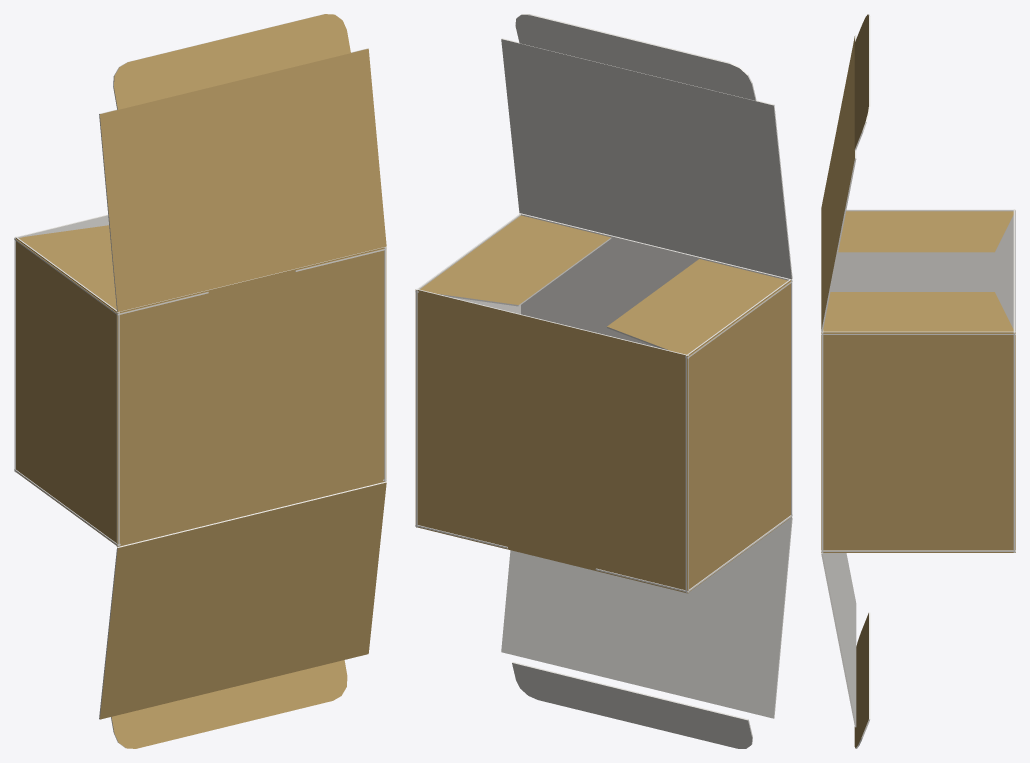
3 views of the same model, side by side, from view 1: azimuth 30°, elevation 25°; view 2: azimuth 150°, elevation 25°; view 3: azimuth 270°, elevation 25° (orthographic). The views are drawn at different scales.
Visible parts, largest first — view 1: Packive_Box_fefco0210; view 2: Packive_Box_fefco0210; view 3: Packive_Box_fefco0210.
Part boxes in pixels (x1,y1,x2,y2): Packive_Box_fefco0210: (14, 14, 386, 748); Packive_Box_fefco0210: (415, 14, 792, 748); Packive_Box_fefco0210: (821, 14, 1015, 748).
Size of the model in its own units: 0.3 by 0.7267 by 0.2.
24 materials, 12 textured.
